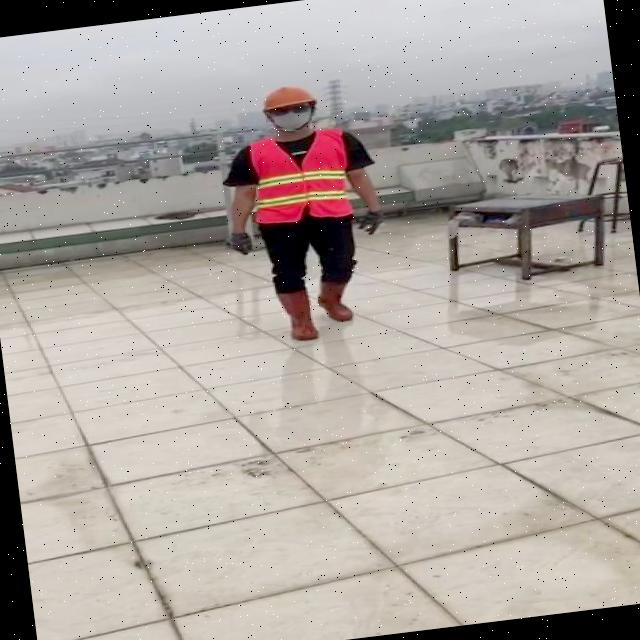vest: (246, 126, 356, 228)
